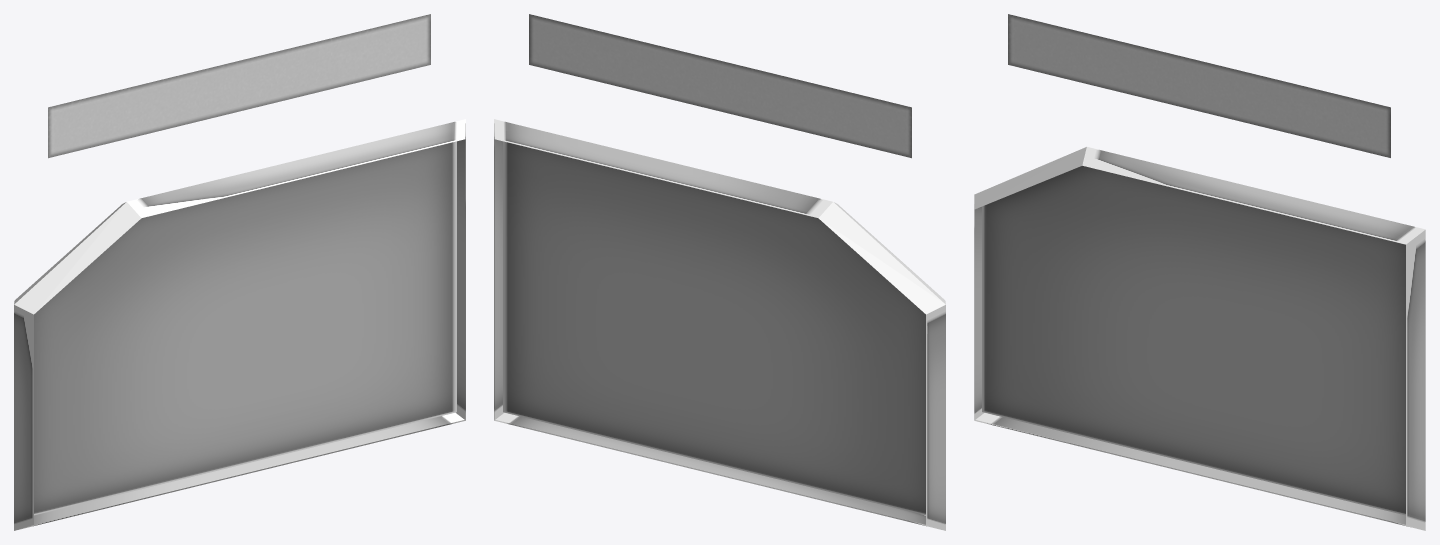
Rendered from ItemBig.glb.
3 renders of one model, left to right at view 1: azimuth 30°, elevation 25°; view 2: azimuth 150°, elevation 25°; view 3: azimuth 330°, elevation 25°, orthographic.
Parts seen in each view (by area): view 1: object_0.003, object_0.001, object_0; view 2: object_0.003, object_0.001, object_0; view 3: object_0.003, object_0.001, object_0.
Boxes of the visible parts, x1,y1,x2,y2 form: object_0.003: [34, 141, 456, 515]; object_0.001: [14, 119, 465, 530]; object_0: [48, 14, 430, 158]; object_0.003: [503, 141, 925, 515]; object_0.001: [494, 119, 945, 530]; object_0: [529, 14, 911, 158]; object_0.003: [982, 165, 1405, 515]; object_0.001: [974, 147, 1425, 530]; object_0: [1008, 14, 1390, 157].
Size of the model in its own units: 118 by 104 by 8.75.
Materials: 2 (2 with a texture image).
